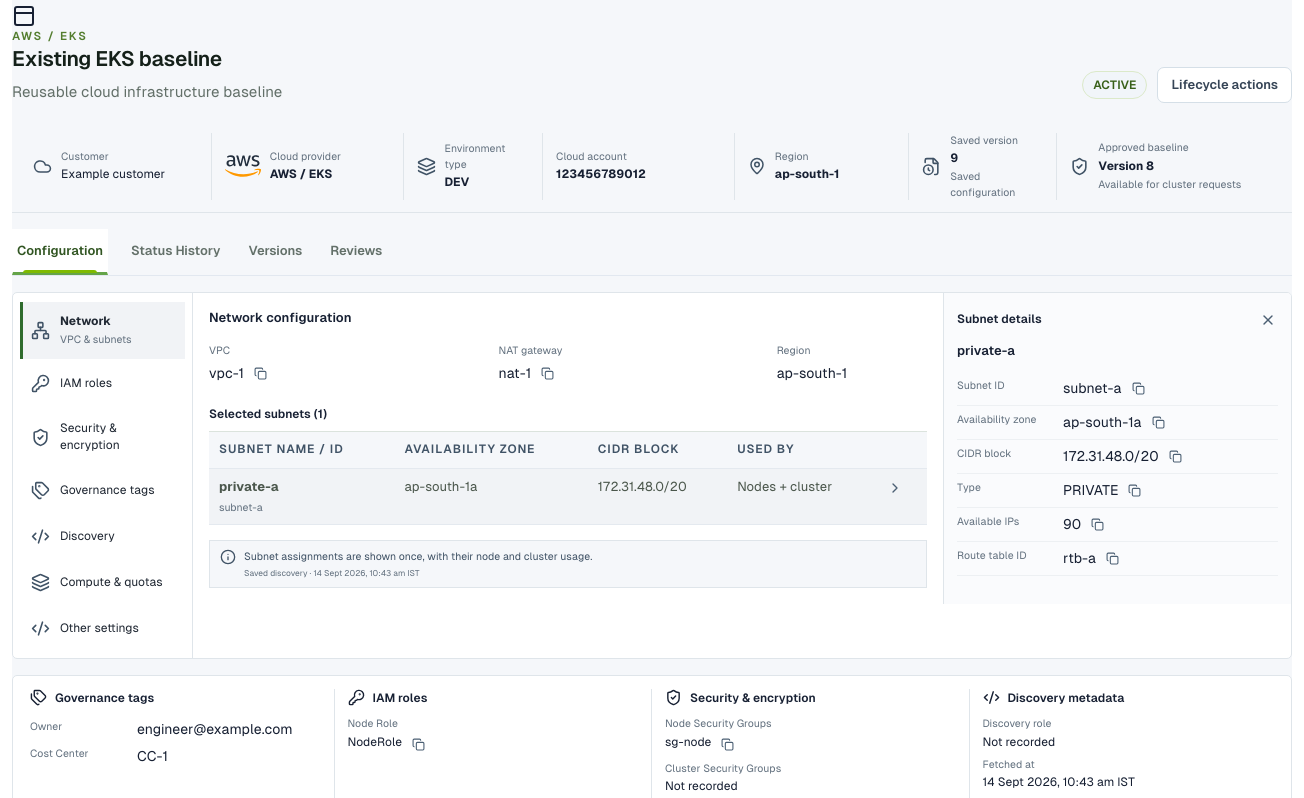
Test: Existing environment explorer › keeps saved and approved versions distinct and combines duplicate subnet assignments
The width and height of the screenshot is (1304, 798).
Expected: the heading "Existing EKS baseline" is shown, [12, 47, 222, 71]
Expected: the text "private-a" is shown once, [219, 479, 279, 494]
Click the button named "Close subnet details": point(1268, 320) [1257, 309, 1278, 330]
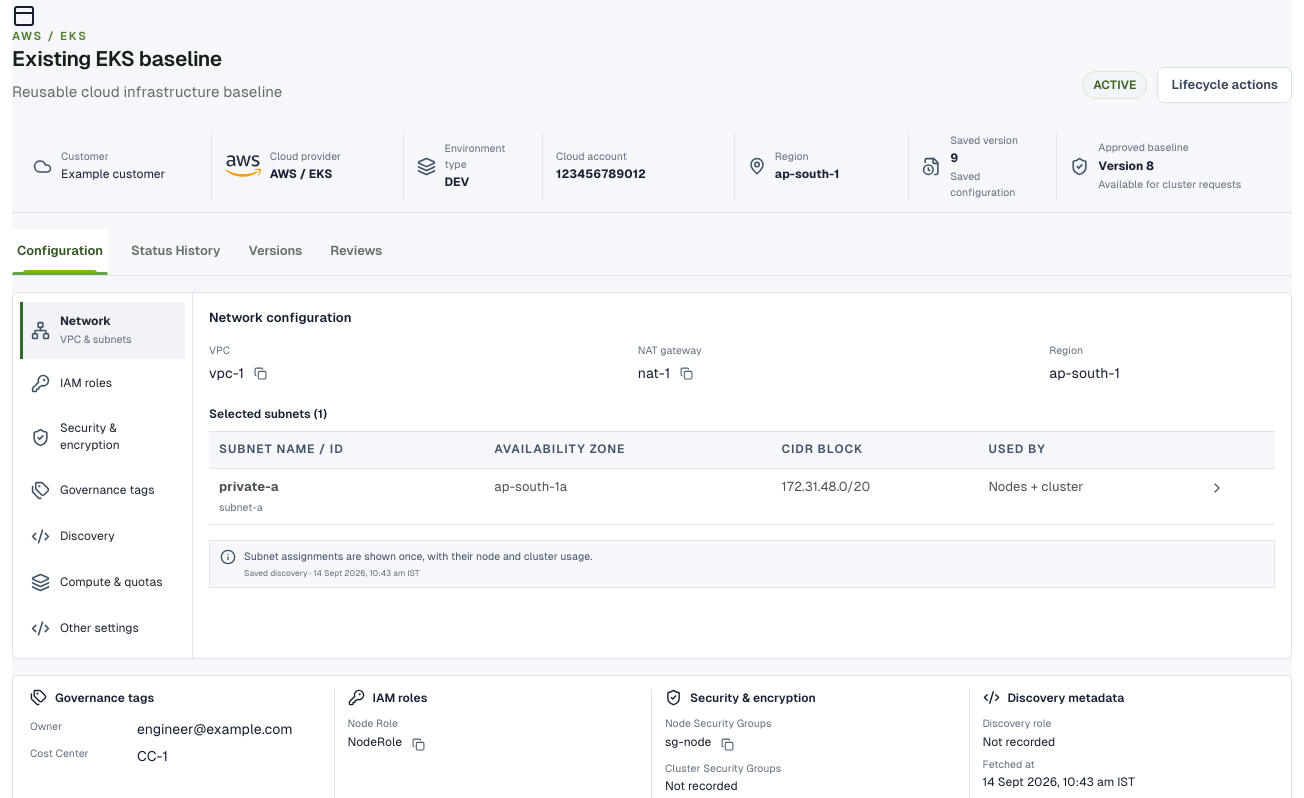
Now the heading "Subnet details" is gone
Click the button named "View private-a details": point(1218, 488) [1207, 478, 1228, 499]
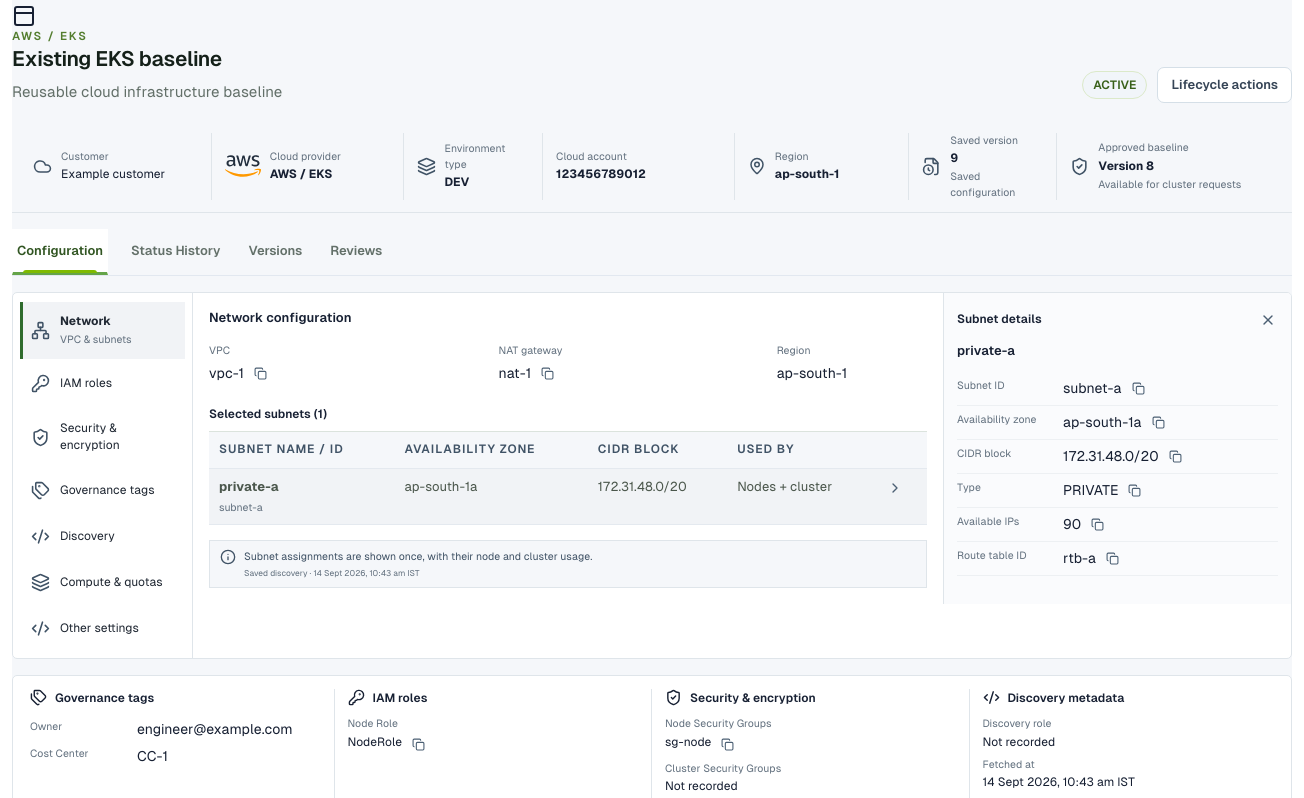
Now the element "Subnet details" shows "90", box [1063, 516, 1081, 532]
